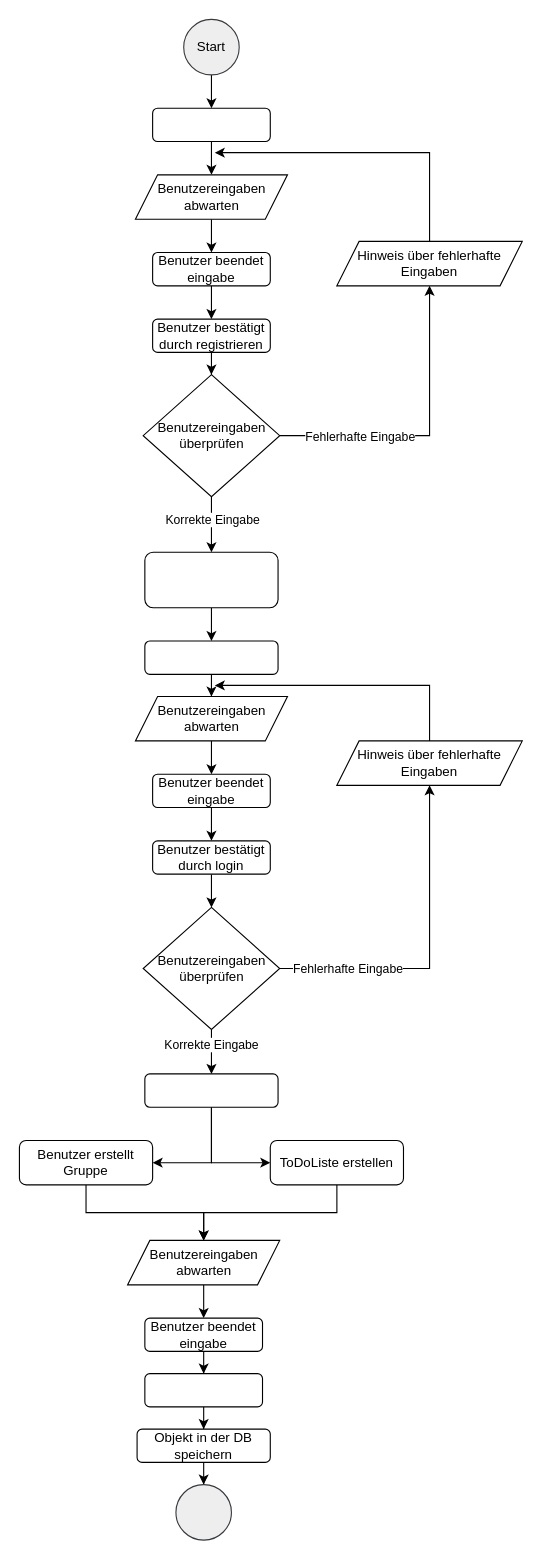
The diagram is 542 pixels wide and 1560 high, and some of its shapes have lost their labels. The shapes that lost their labels are listed below. From the top down, each one's centre as x and y in pixels, then its label:
At pixel 211 124: "Benutzer Registrieren".
At pixel 211 579: "Neuen Benutzer in der Datenbank ablegen".
At pixel 211 657: "Benutzer will sich anmelden".
At pixel 211 1090: "AppActivity starten".
At pixel 203 1390: "Benutzer bestätigt durch speichern".
At pixel 203 1512: "Ende".
